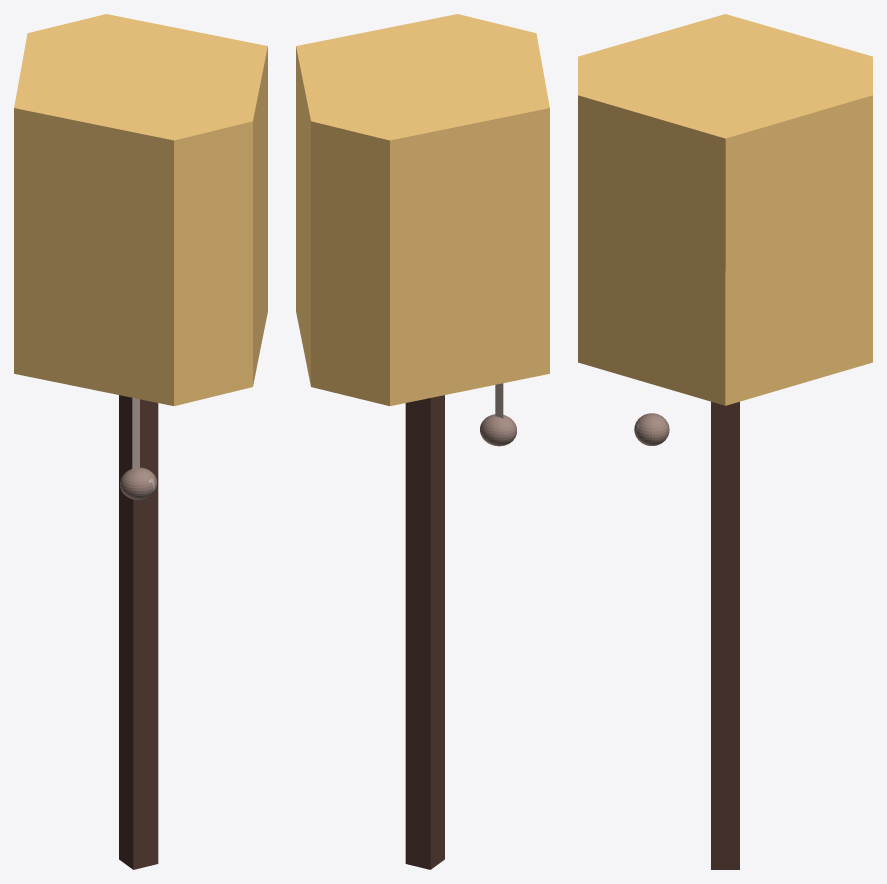
The model's file is lamp2.fbx.
The picture shows the model from 3 angles, left to right: view 1: azimuth 30°, elevation 25°; view 2: azimuth 150°, elevation 25°; view 3: azimuth 270°, elevation 25°; orthographic projection.
Visible parts, largest first — view 1: Cube; view 2: Cube; view 3: Cube.
Part boxes in pixels (x1,y1,x2,y2): Cube: [14, 14, 267, 869]; Cube: [296, 14, 549, 869]; Cube: [578, 14, 872, 869].
Size of the model in its own units: 200 by 590 by 200.
